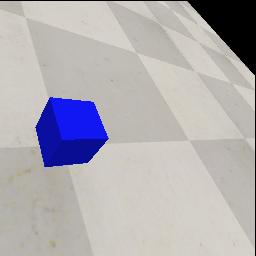box: (35, 97, 109, 167)
